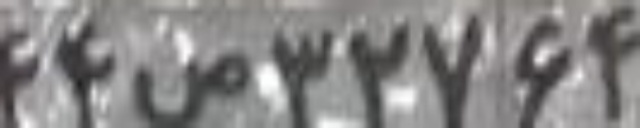2: (346, 20, 409, 127)
3: (269, 24, 329, 127)
4: (585, 5, 638, 121), (57, 23, 110, 127), (0, 31, 39, 127)
6: (509, 14, 572, 127)
7: (418, 13, 481, 127)
saat: (130, 49, 252, 127)
